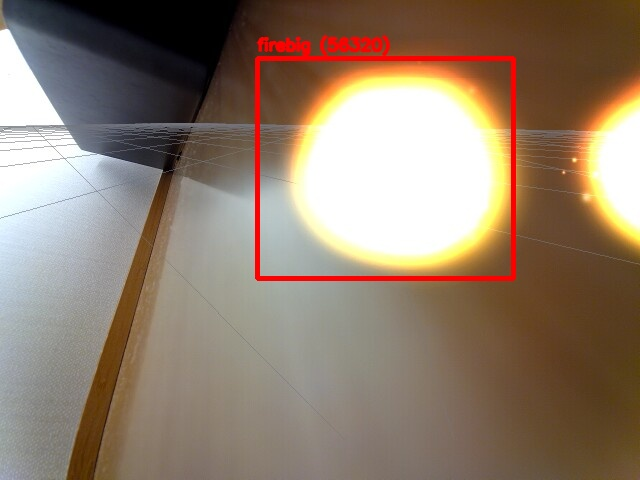firebig: (257, 58, 513, 278)
